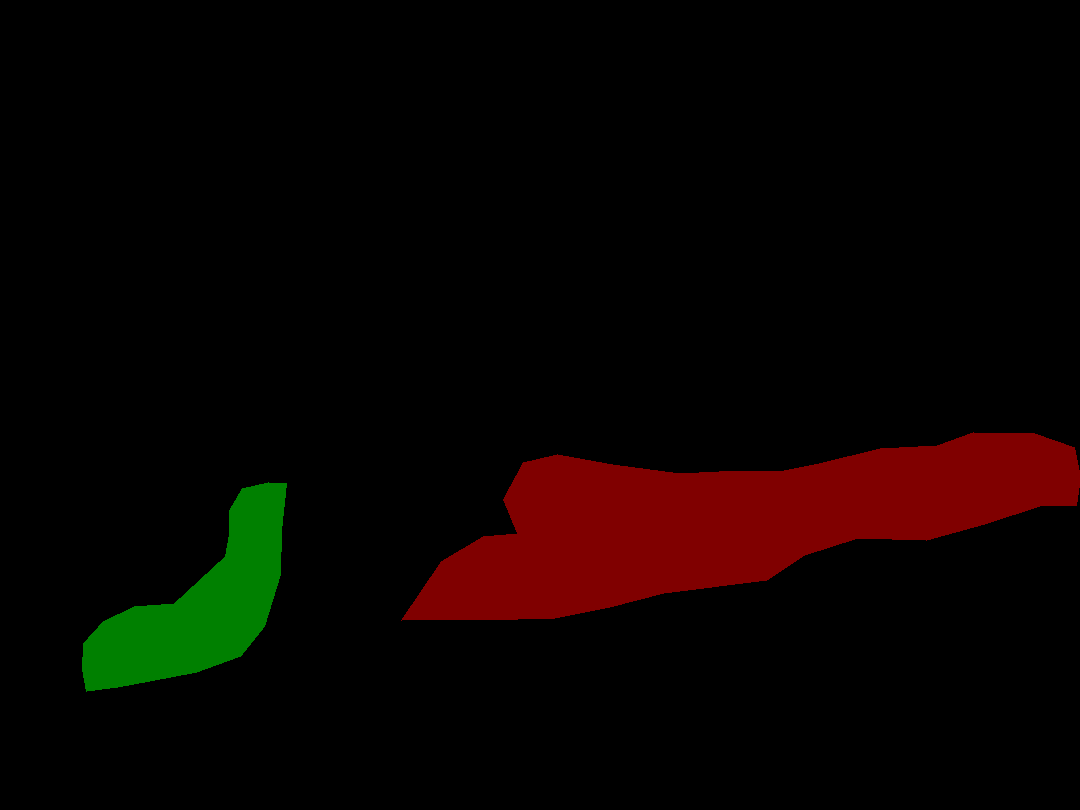fire: (401, 432, 1080, 620), (82, 482, 286, 691)
